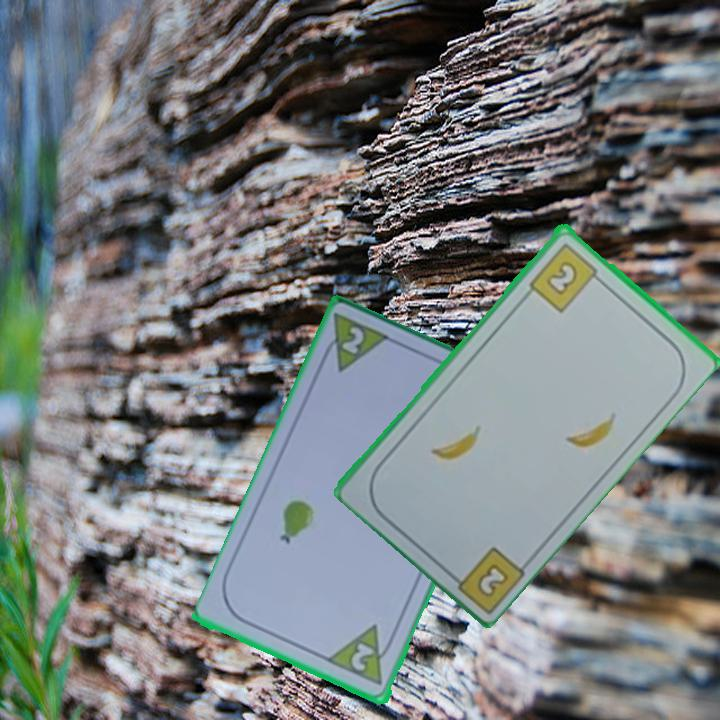2b: (525, 238, 606, 315), (473, 559, 512, 600)
2p: (316, 311, 395, 377), (325, 622, 399, 690)
